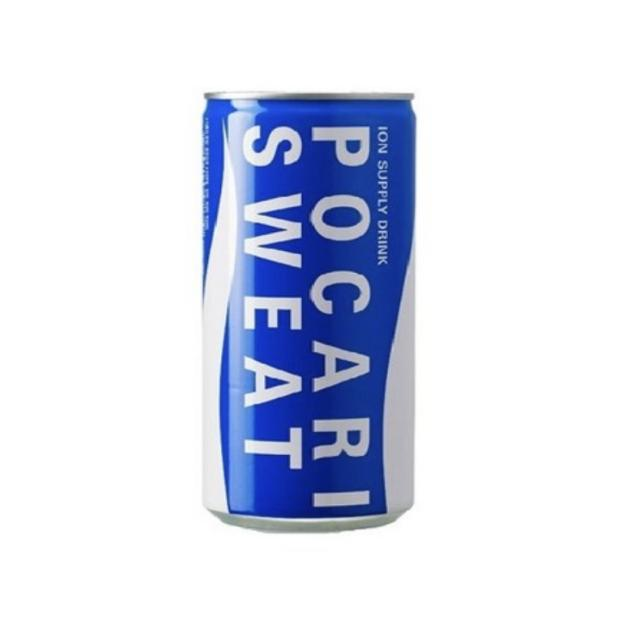recyclable: (185, 70, 438, 550)
